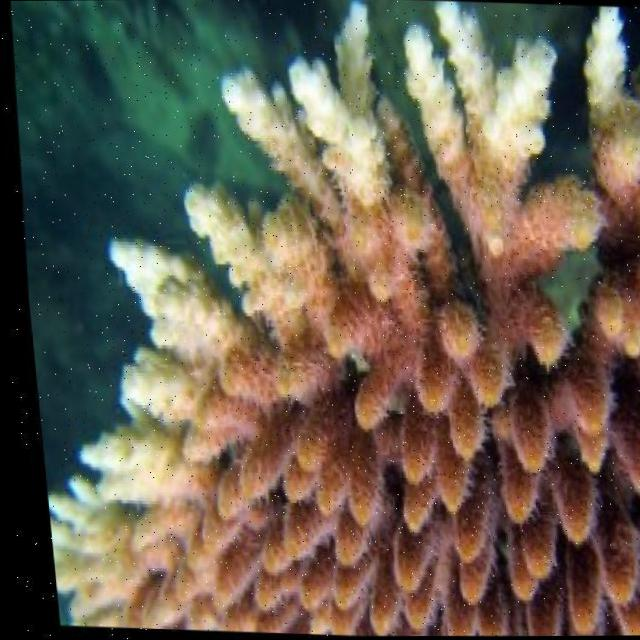Bleached Coral: (15, 204, 233, 636), (229, 0, 638, 173)
